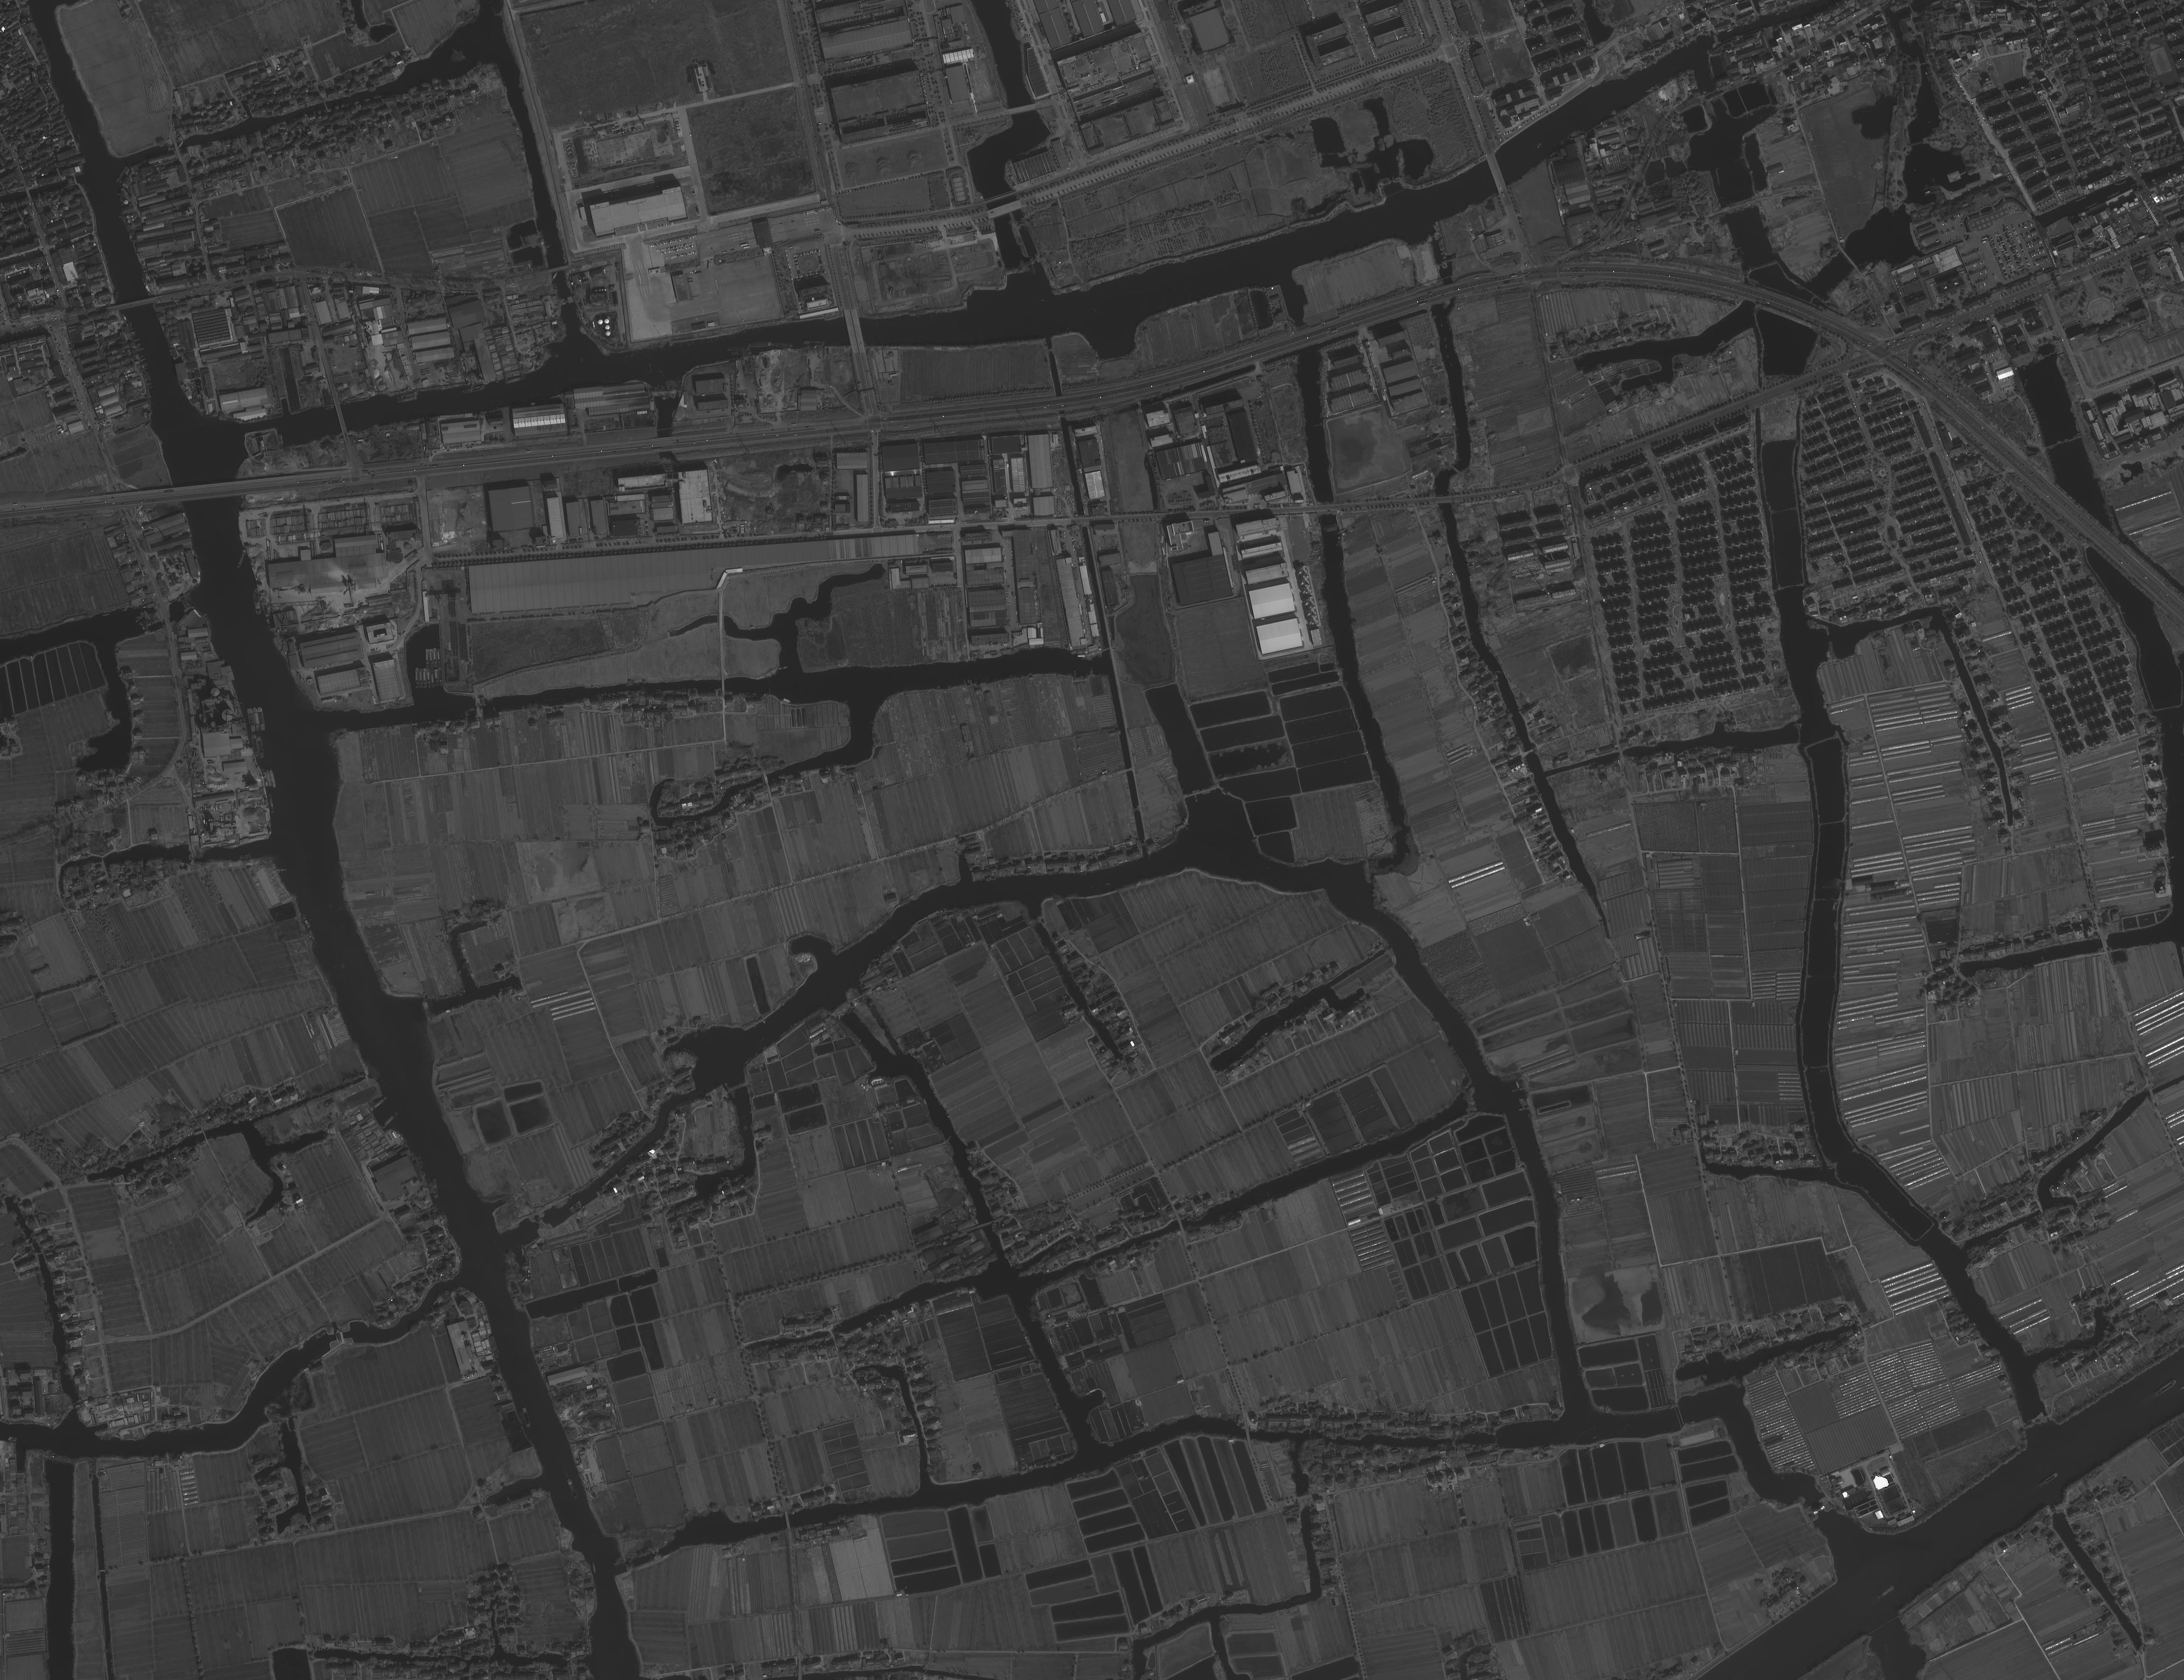ship: (2154, 1378, 2177, 1398), (565, 1472, 579, 1498), (379, 1112, 399, 1129), (369, 1096, 388, 1112), (252, 588, 263, 616), (2039, 1474, 2059, 1488), (1877, 1586, 1895, 1601), (258, 706, 266, 731), (252, 706, 261, 731), (236, 549, 247, 568), (522, 1406, 531, 1429), (256, 736, 265, 759), (251, 734, 259, 757), (247, 709, 256, 732), (771, 341, 794, 349), (748, 341, 773, 348), (265, 769, 273, 787), (261, 771, 270, 787), (268, 794, 275, 814), (270, 769, 277, 787), (730, 351, 753, 356), (427, 669, 432, 688), (422, 669, 427, 688), (418, 669, 423, 688), (415, 669, 420, 688), (432, 648, 438, 667), (429, 649, 434, 667), (438, 669, 443, 686), (430, 671, 436, 688), (436, 649, 441, 667), (434, 671, 439, 686), (727, 348, 750, 351), (425, 648, 429, 667), (593, 1562, 596, 1574), (275, 868, 288, 872)
